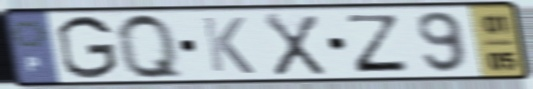9: (414, 9, 471, 75)
G: (54, 14, 122, 82)
K: (199, 15, 258, 76)
Q: (113, 10, 189, 82)
X: (260, 11, 329, 78)
Z: (344, 12, 413, 75)
